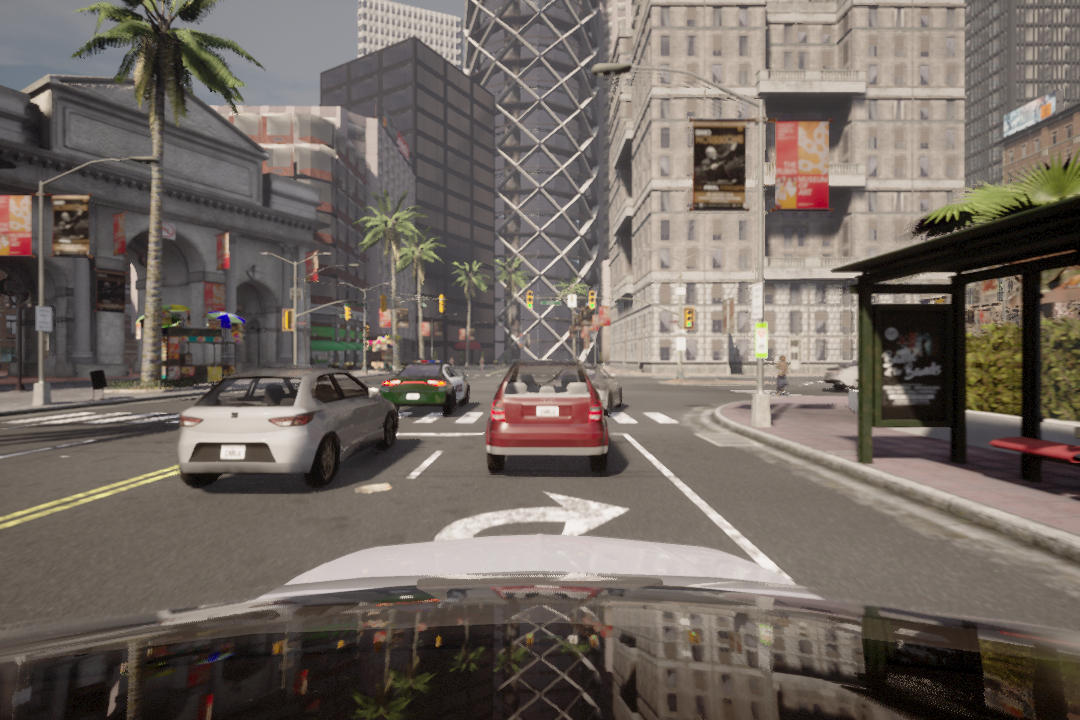RoadSign_right: (427, 484, 631, 547)
TrafficLight: (684, 308, 696, 329), (586, 290, 597, 311), (525, 287, 534, 310)
TrafficSign: (160, 223, 178, 240)
walkside: (8, 405, 694, 431)
